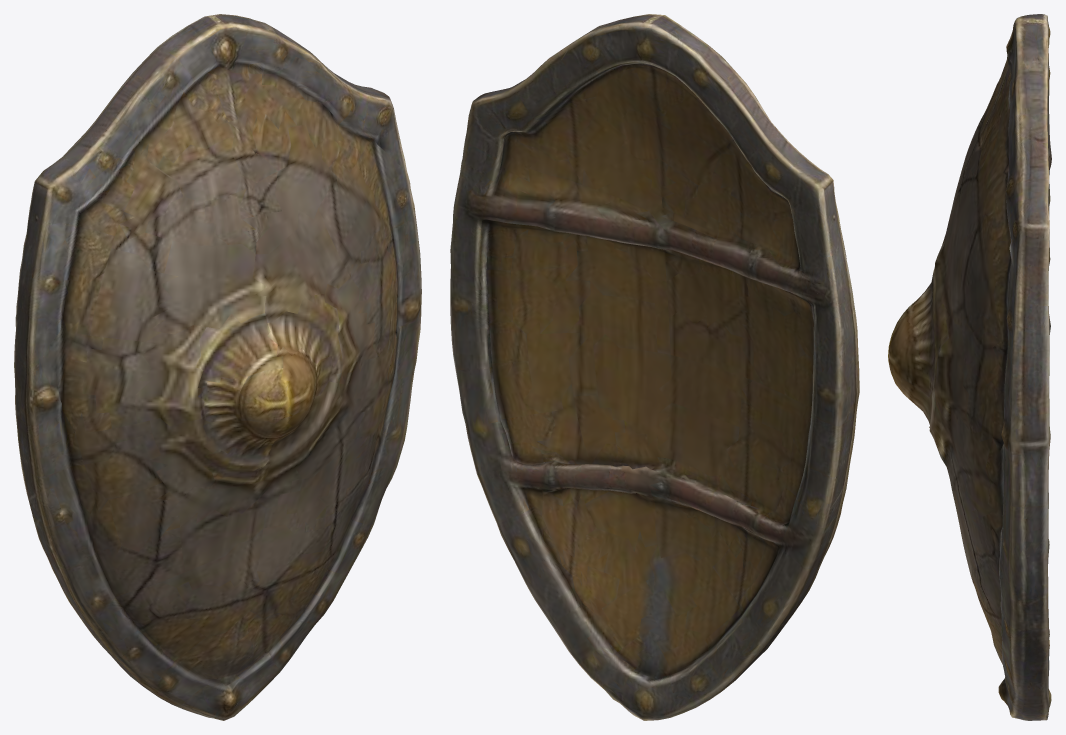
Rendered from PF_Shield12.glb.
3 views of the same model, side by side, from view 1: azimuth 30°, elevation 25°; view 2: azimuth 150°, elevation 25°; view 3: azimuth 270°, elevation 25° (orthographic).
Size of the model in its own units: 1.18 by 2 by 0.4241.
Materials: 1 (1 with a texture image).
